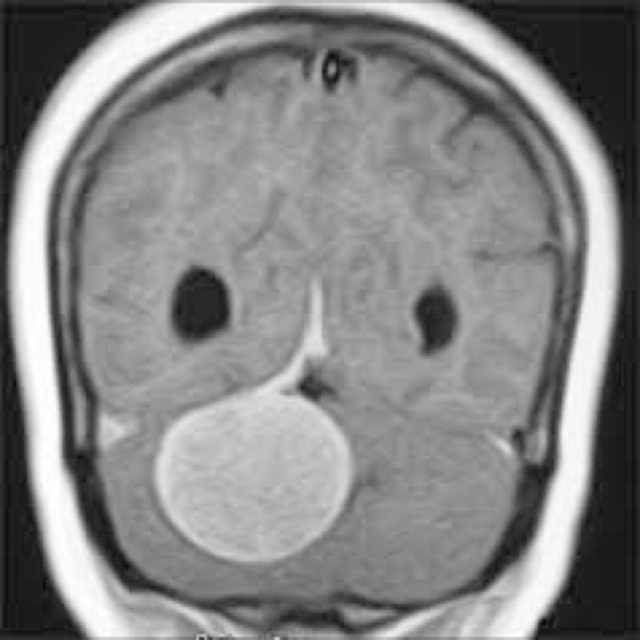meningioma tumor: (116, 350, 379, 577)
